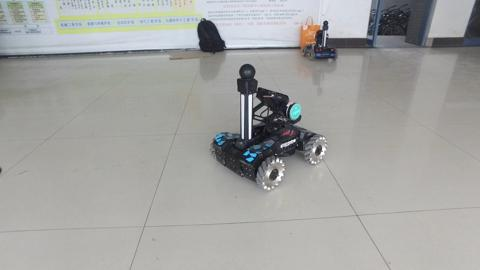bag: (195, 15, 227, 55), (299, 14, 322, 48)
chariot: (208, 62, 328, 191), (300, 18, 339, 63)
